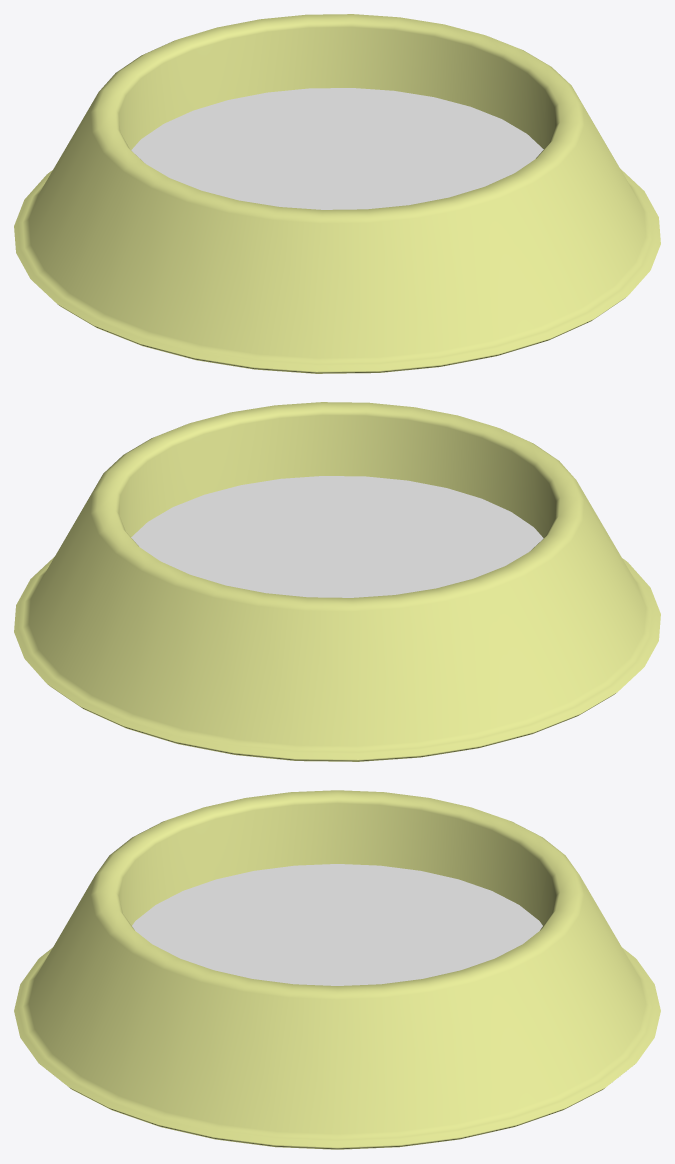
File: milkBowl.fbx
3 views of the same model, one above another, from view 1: azimuth 30°, elevation 25°; view 2: azimuth 150°, elevation 25°; view 3: azimuth 270°, elevation 25° (orthographic).
Parts seen in each view (by area): view 1: bowl, milk; view 2: bowl, milk; view 3: bowl, milk.
Boxes of the visible parts, x1,y1,x2,y2 form: bowl: [14, 14, 660, 373]; milk: [131, 88, 543, 209]; bowl: [14, 402, 660, 761]; milk: [131, 476, 543, 597]; bowl: [14, 790, 660, 1149]; milk: [132, 864, 542, 985].
Size of the model in its own units: 208 by 43.71 by 208.
